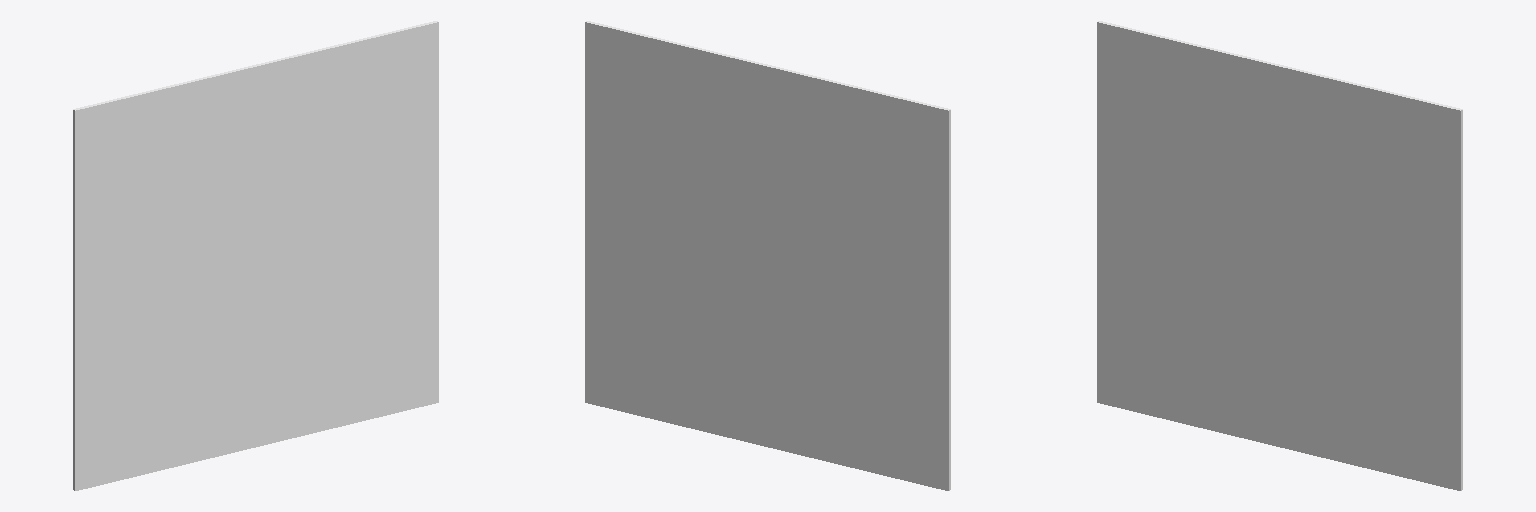
robot.urdf — calibration_board:
<?xml version="1.0"?>
<robot name="calibration_board">

  <link name="base_link">

    <visual>
    <origin xyz="0 -0.001 0" rpy="0 0 0"/>
      <geometry>
        <mesh filename="package://calibration_board/meshes/calibration_board.obj" scale="1 1 1"/>
      </geometry>
      <material name="White">
         <color rgba="1 1 1 1"/>
      </material>
    </visual>

  </link>

</robot>

--- Facts derived from the render (not from the file) ---
Views: 3 orthographic renders of the robot side by side, from view 1: azimuth 30°, elevation 25°; view 2: azimuth 150°, elevation 25°; view 3: azimuth 330°, elevation 25°.
Model calibration_board with 1 links and 0 joints (none), rooted at base_link, posed all joints at 0.
Links seen in each view (by area): view 1: base_link; view 2: base_link; view 3: base_link.
Link boxes in pixels (box(x1,y1,x2,y2)): base_link: box(73, 21, 438, 490); base_link: box(585, 21, 950, 490); base_link: box(1097, 21, 1462, 490).
Size in the robot's own frame: 0.2 by 0.002 by 0.2 metres.
1 mesh visuals loaded from 1 distinct referenced files (1 OBJ).
